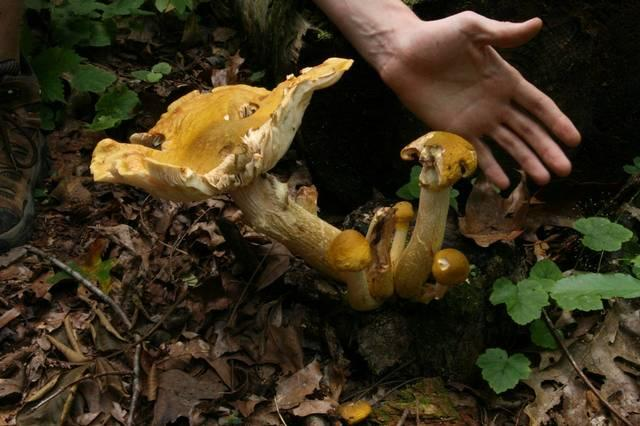Edible Mushroom: (88, 54, 392, 309), (392, 129, 478, 304)
